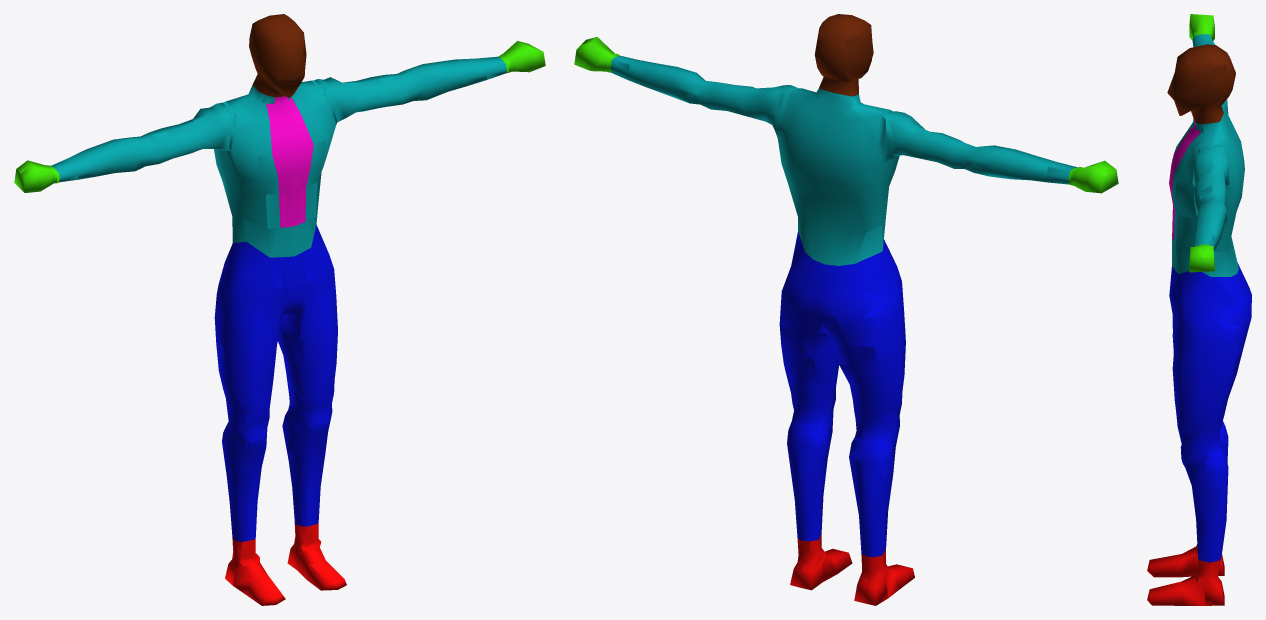
Rendered from Base corps.fbx.
3 views of the same model, side by side, from view 1: azimuth 30°, elevation 25°; view 2: azimuth 150°, elevation 25°; view 3: azimuth 270°, elevation 25° (orthographic). The views are drawn at different scales.
Visible parts, largest first — view 1: corps003; view 2: corps003; view 3: corps003.
Boxes of the visible parts, x1,y1,x2,y2 form: corps003: (14,14,545,605); corps003: (574,14,1118,605); corps003: (1147,14,1251,605).
Bounding box in the file's own units: 1.71 × 1.74 × 0.3085.
